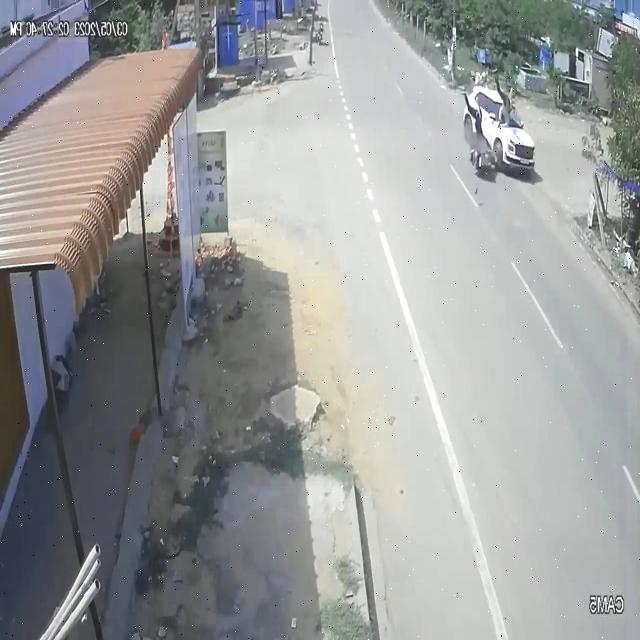accident: (449, 61, 543, 197)
